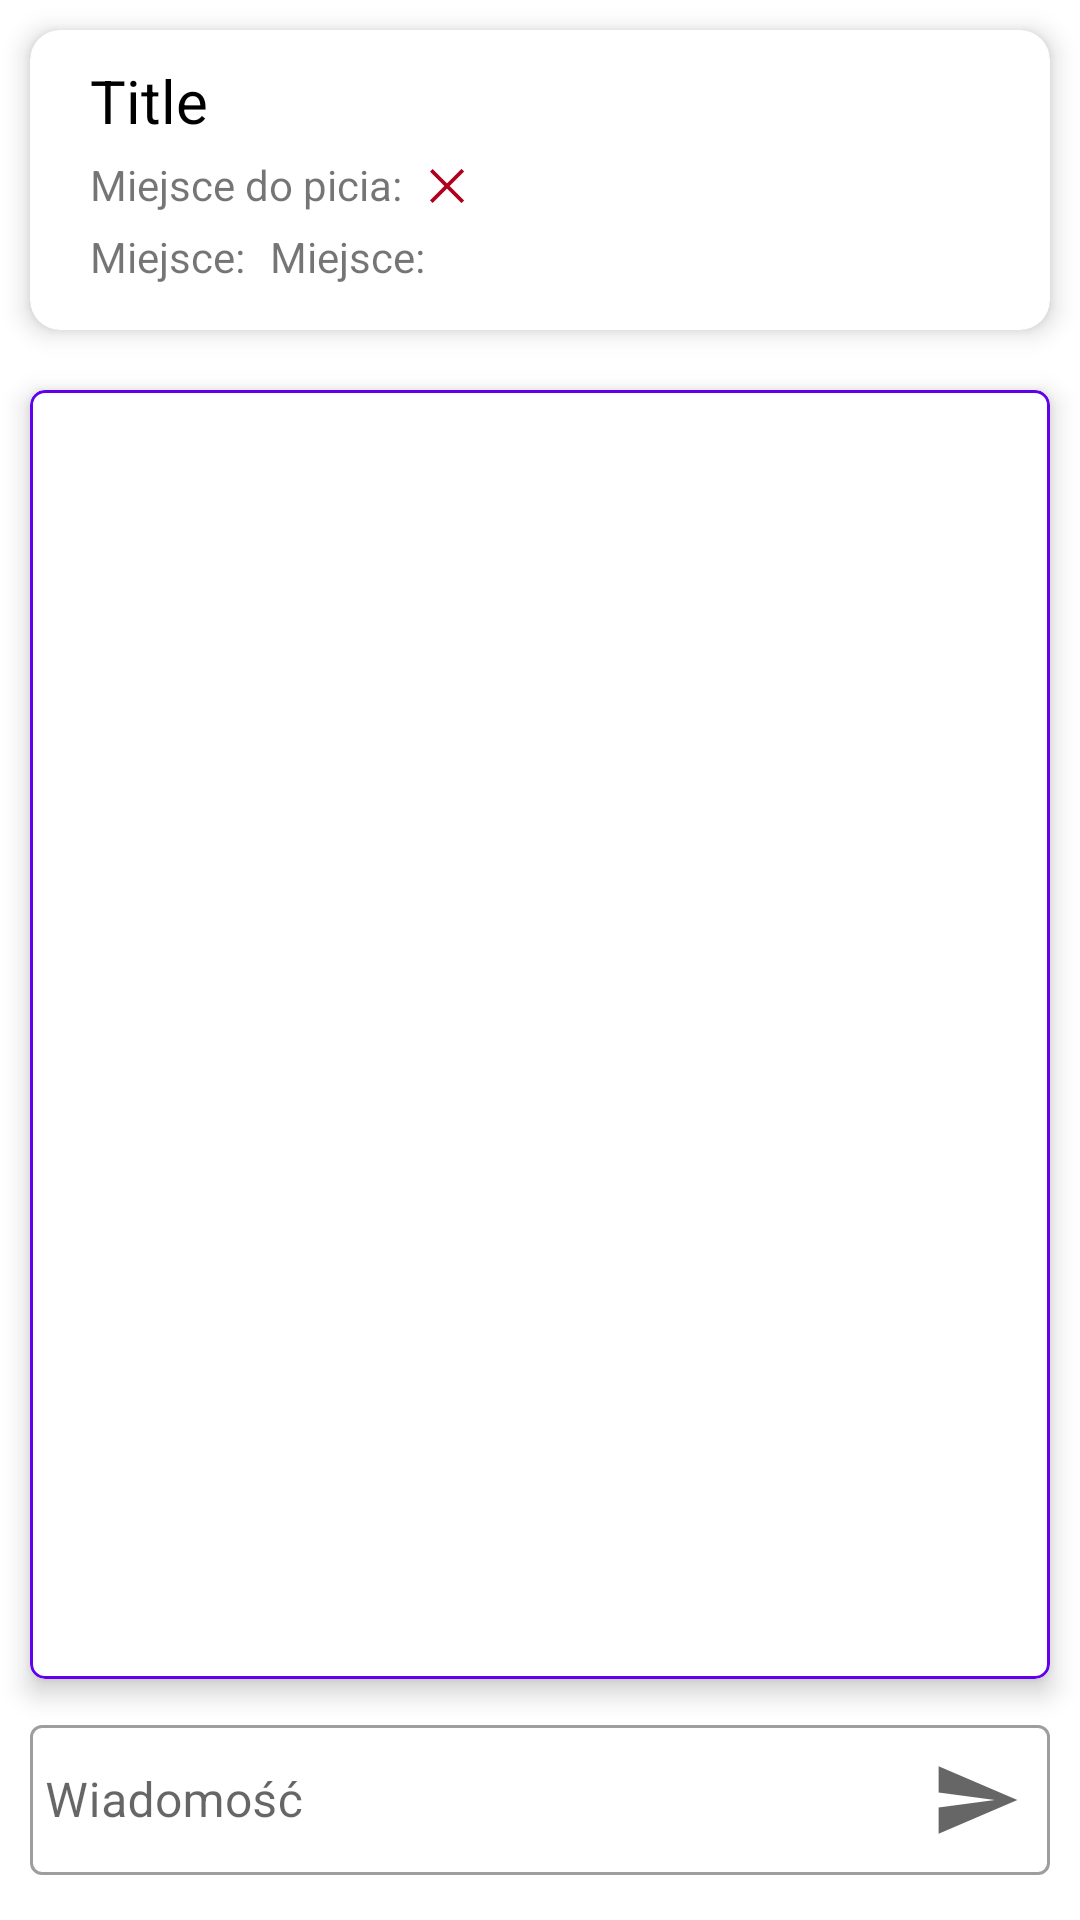

Where to tap for icons on this 1080 x 1920 app screen, as point (x, y):
unchecked: point (447, 186)
